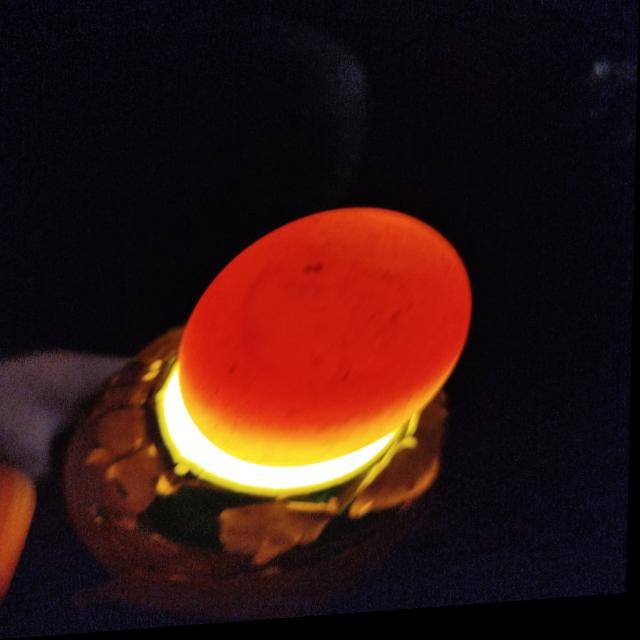Gema Quebrada: (185, 214, 474, 438)
